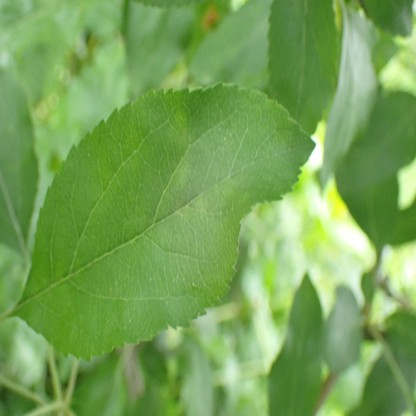scab: (172, 179, 199, 213), (167, 108, 188, 147)
